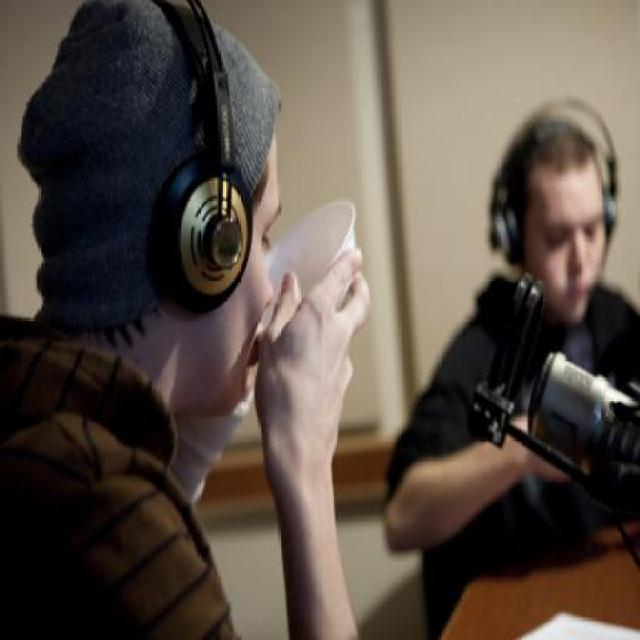earphone: (141, 0, 260, 338), (468, 128, 640, 261)
